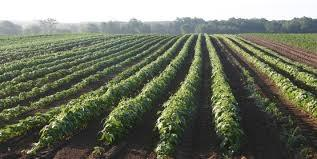field: (0, 34, 316, 157)
